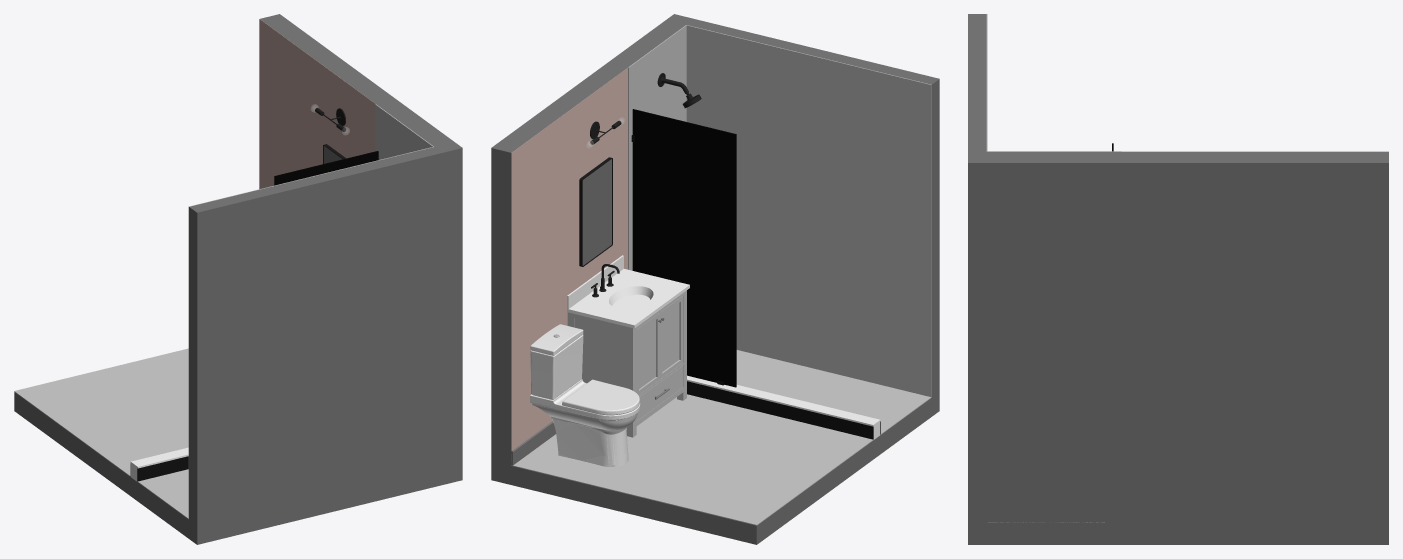
3 views of the same model, side by side, from view 1: azimuth 30°, elevation 25°; view 2: azimuth 150°, elevation 25°; view 3: azimuth 270°, elevation 25° (orthographic). The views are drawn at different scales.
Visible parts, largest first — view 1: 3DGeom-68, 3DGeom-34, 3DGeom-63, 3DGeom-69, 3DGeom-35, 3DGeom-59, 3DGeom-33, 3DGeom-37, 3DGeom-62, 3DGeom-58; view 2: 3DGeom-58, 3DGeom-34, 3DGeom-63, 3DGeom-37, 3DGeom-69, 3DGeom-35, 3DGeom-29, 3DGeom-33, 3DGeom-68, 3DGeom-30, 3DGeom-3, 3DGeom-59 (+9 smaller); view 3: 3DGeom-69, 3DGeom-35, 3DGeom-68.
Part boxes in pixels (box(x1,y1,x2,y2)): 3DGeom-68: box(189, 147, 442, 525); 3DGeom-34: box(14, 348, 188, 476); 3DGeom-63: box(259, 19, 375, 189); 3DGeom-69: box(260, 14, 462, 465); 3DGeom-35: box(14, 392, 462, 544); 3DGeom-59: box(382, 109, 433, 158); 3DGeom-33: box(137, 469, 188, 519); 3DGeom-37: box(274, 151, 378, 185); 3DGeom-62: box(137, 456, 188, 481); 3DGeom-58: box(188, 146, 433, 519); 3DGeom-58: box(686, 25, 931, 397); 3DGeom-34: box(511, 394, 873, 525); 3DGeom-63: box(511, 68, 627, 450); 3DGeom-37: box(632, 109, 736, 387); 3DGeom-69: box(491, 14, 693, 465); 3DGeom-35: box(491, 392, 939, 544); 3DGeom-29: box(567, 290, 686, 437); 3DGeom-33: box(736, 350, 931, 435); 3DGeom-68: box(686, 19, 939, 397); 3DGeom-30: box(567, 255, 689, 328); 3DGeom-3: box(530, 324, 640, 462); 3DGeom-59: box(635, 25, 686, 121); 3DGeom-69: box(968, 151, 1388, 522); 3DGeom-35: box(968, 523, 1388, 544); 3DGeom-68: box(968, 14, 986, 151).
Size of the model in its own units: 2.17 by 2.59 by 2.59.
